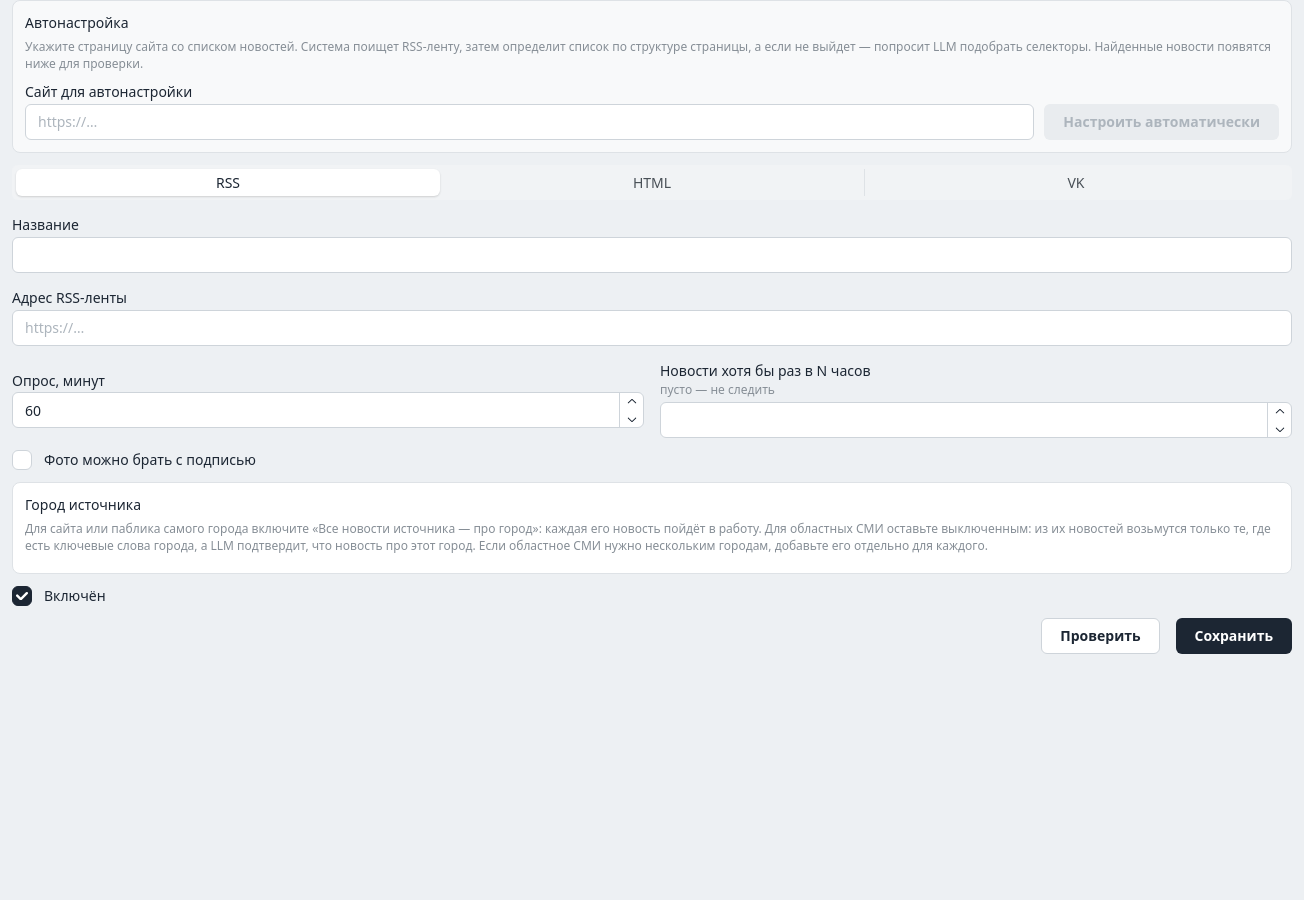
it: SourceForm › test button renders extracted items
The image size is (1304, 900).
Type "X" into the field labelled "Название" at (652, 255), box [12,237,1292,273]
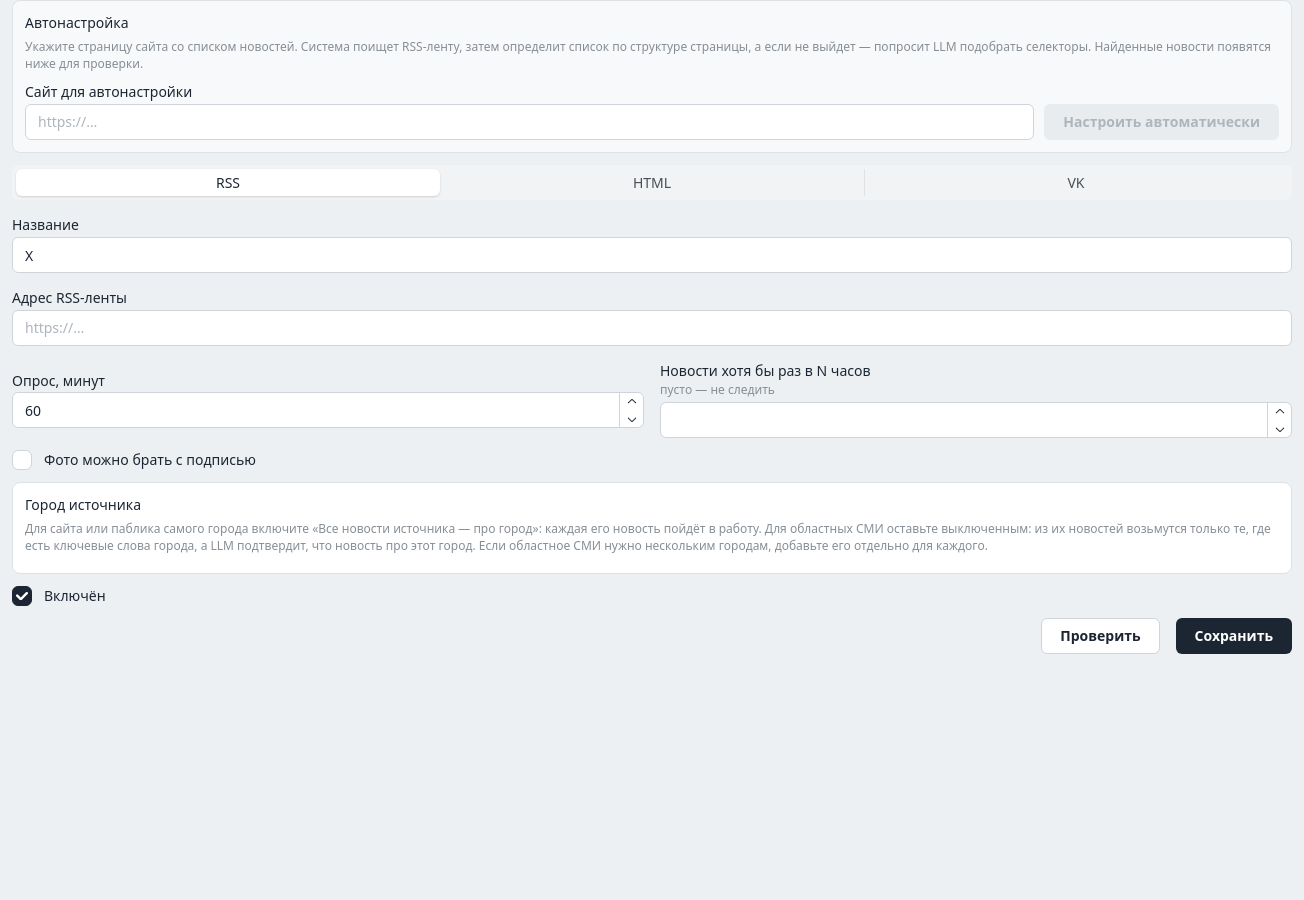
Type "https://x/rss" into the field labelled "Адрес RSS-ленты" at (652, 328), box [12,310,1292,346]
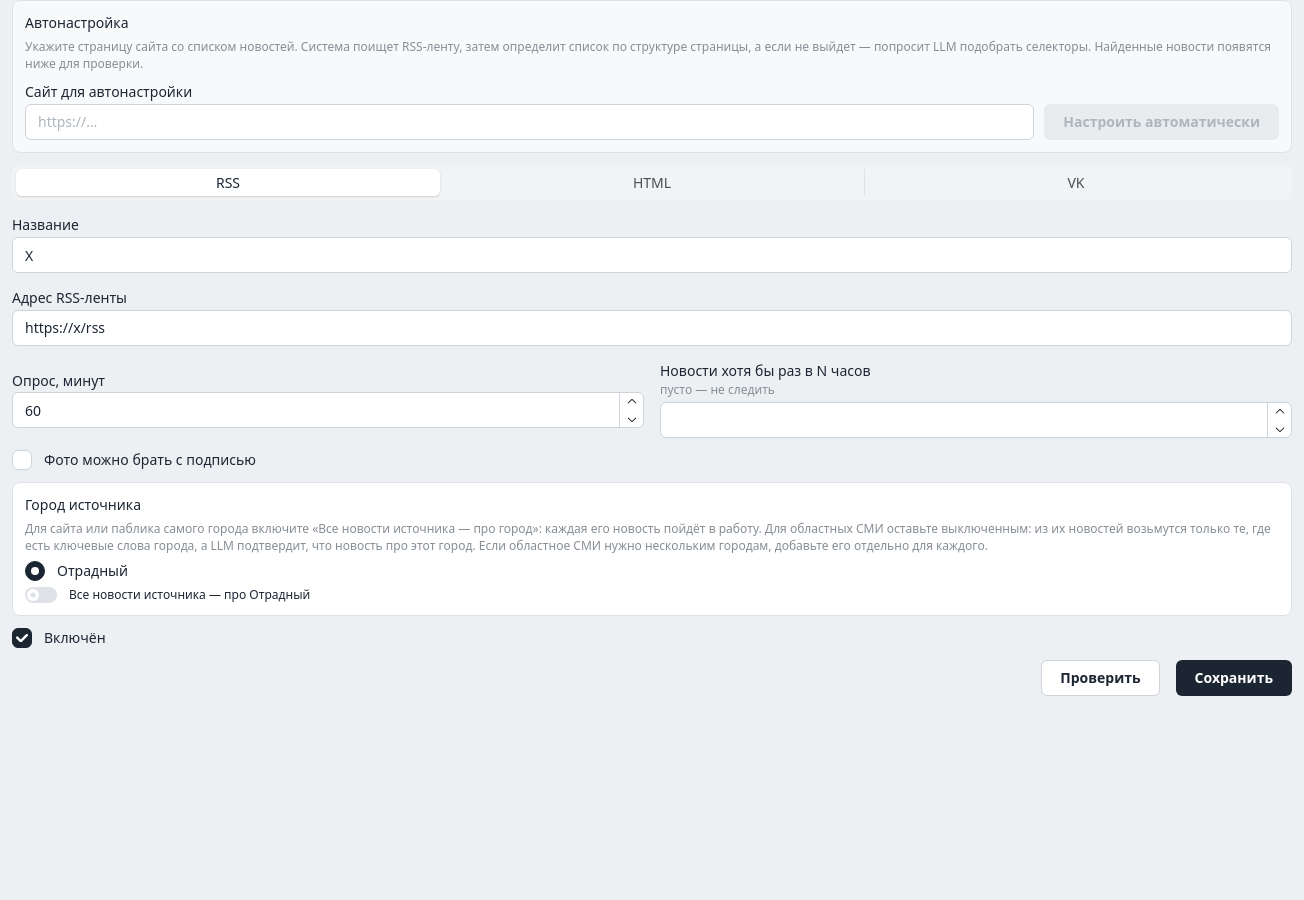
Click the button "Проверить" at (1100, 678), box [1041,660,1160,696]
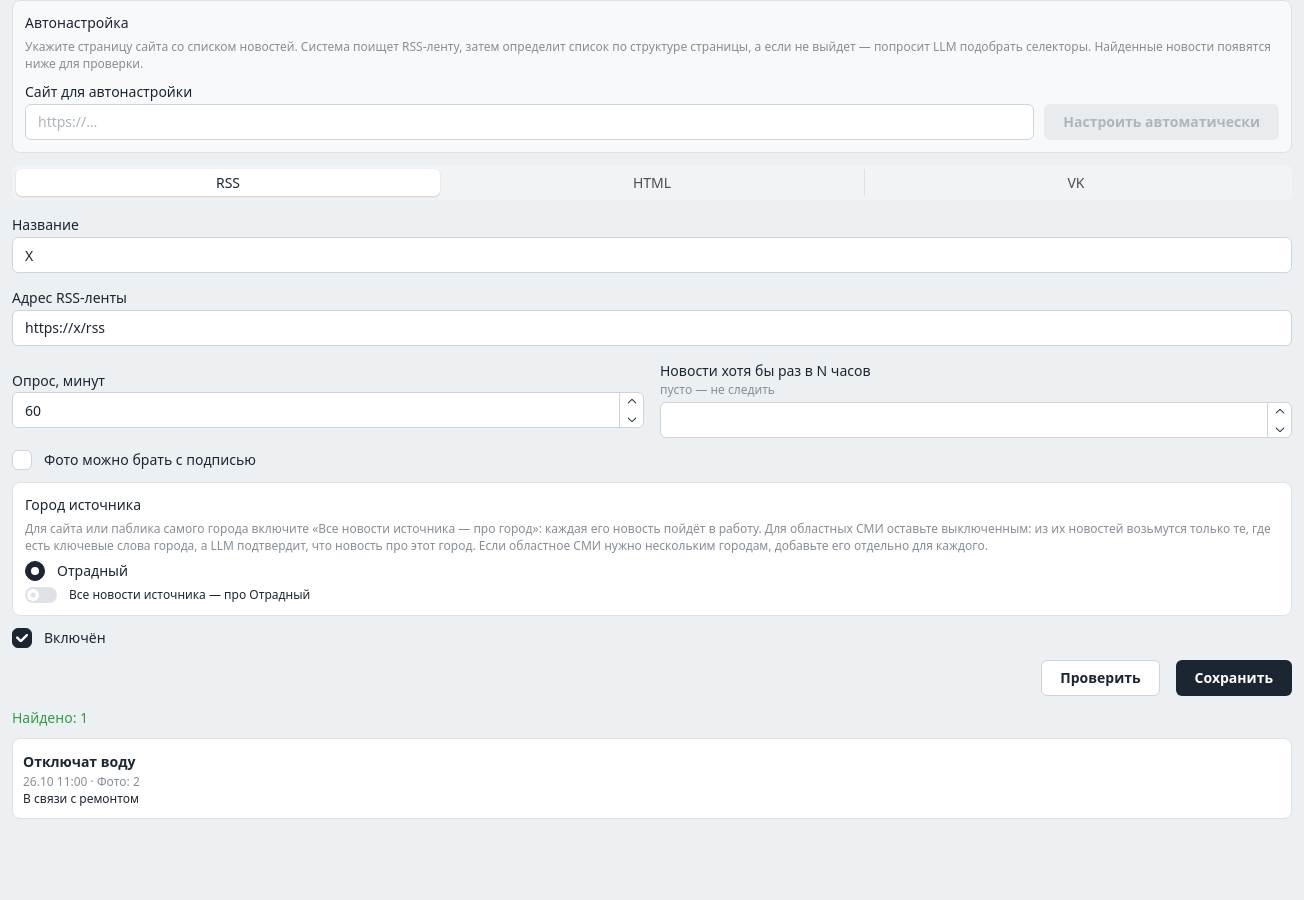
Check: the link "Отключат воду" is shown, box [23,752,136,771]
Check: the text "26.10 11:00 · Фото: 2" is shown, box [23,773,140,790]
